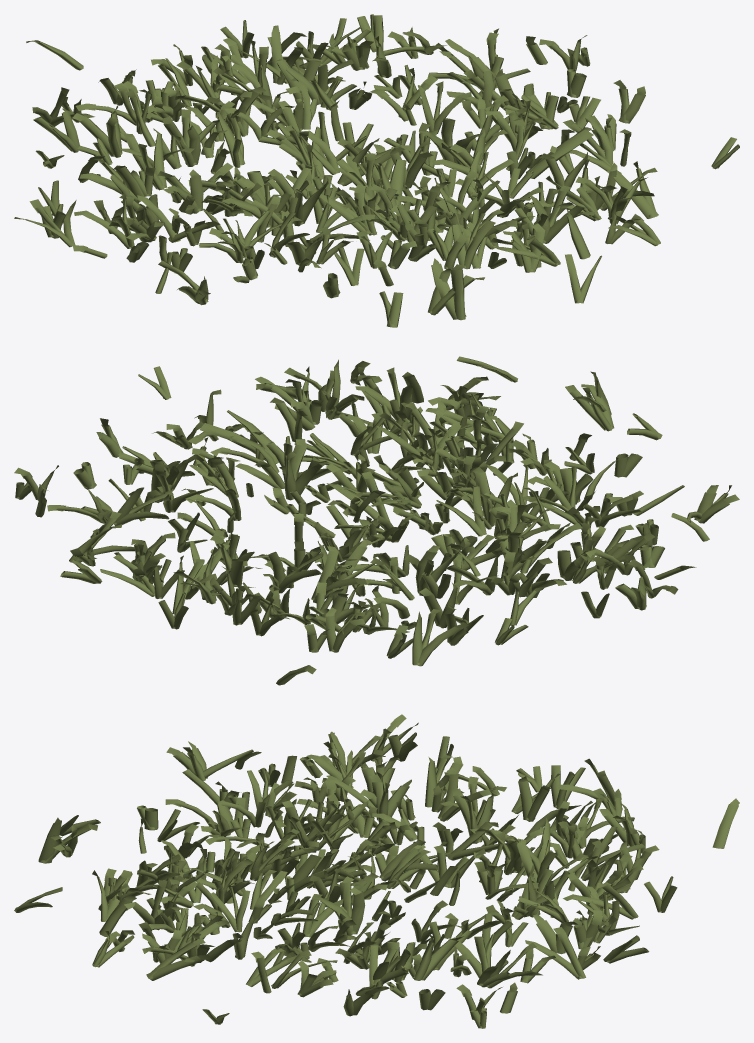
File: BasegrassBermuda1MeshGroup8.fbx
3 views of the same model, one above another, from view 1: azimuth 30°, elevation 25°; view 2: azimuth 150°, elevation 25°; view 3: azimuth 270°, elevation 25° (orthographic). The views are drawn at different scales.
Parts seen in each view (by area): view 1: grassBermuda1Main, grassBermuda1Leaf; view 2: grassBermuda1Main, grassBermuda1Leaf; view 3: grassBermuda1Main, grassBermuda1Leaf.
Boxes of the visible parts, bbox=[...] form: grassBermuda1Main: bbox=[25, 14, 739, 327]; grassBermuda1Leaf: bbox=[14, 25, 657, 296]; grassBermuda1Main: bbox=[15, 356, 729, 685]; grassBermuda1Leaf: bbox=[14, 359, 739, 674]; grassBermuda1Main: bbox=[14, 720, 738, 1028]; grassBermuda1Leaf: bbox=[50, 714, 739, 1004].
Bounding box in the file's own units: 6.53 × 0.4997 × 6.81.
